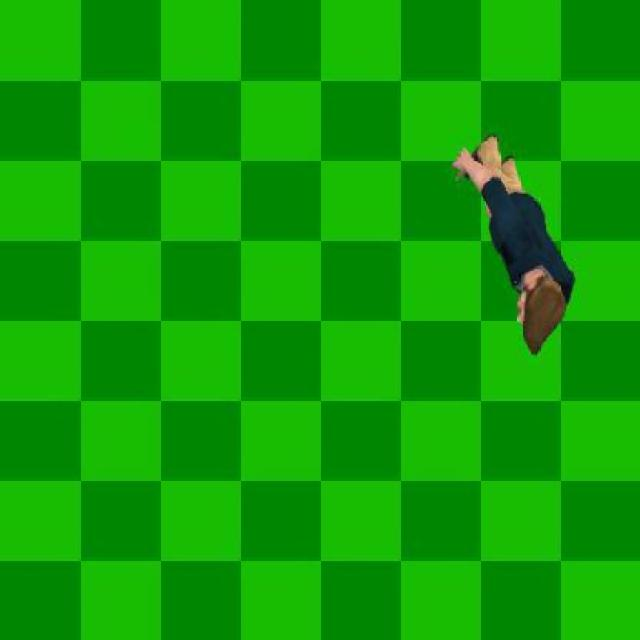Person: (452, 128, 578, 362)
